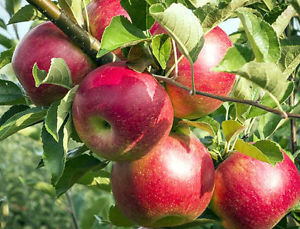apple: (107, 126, 216, 229), (71, 60, 175, 164), (134, 23, 243, 115), (207, 138, 298, 229), (12, 22, 105, 111)
